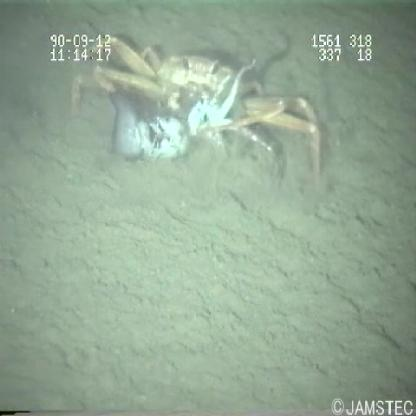Bio: (64, 32, 326, 193)
